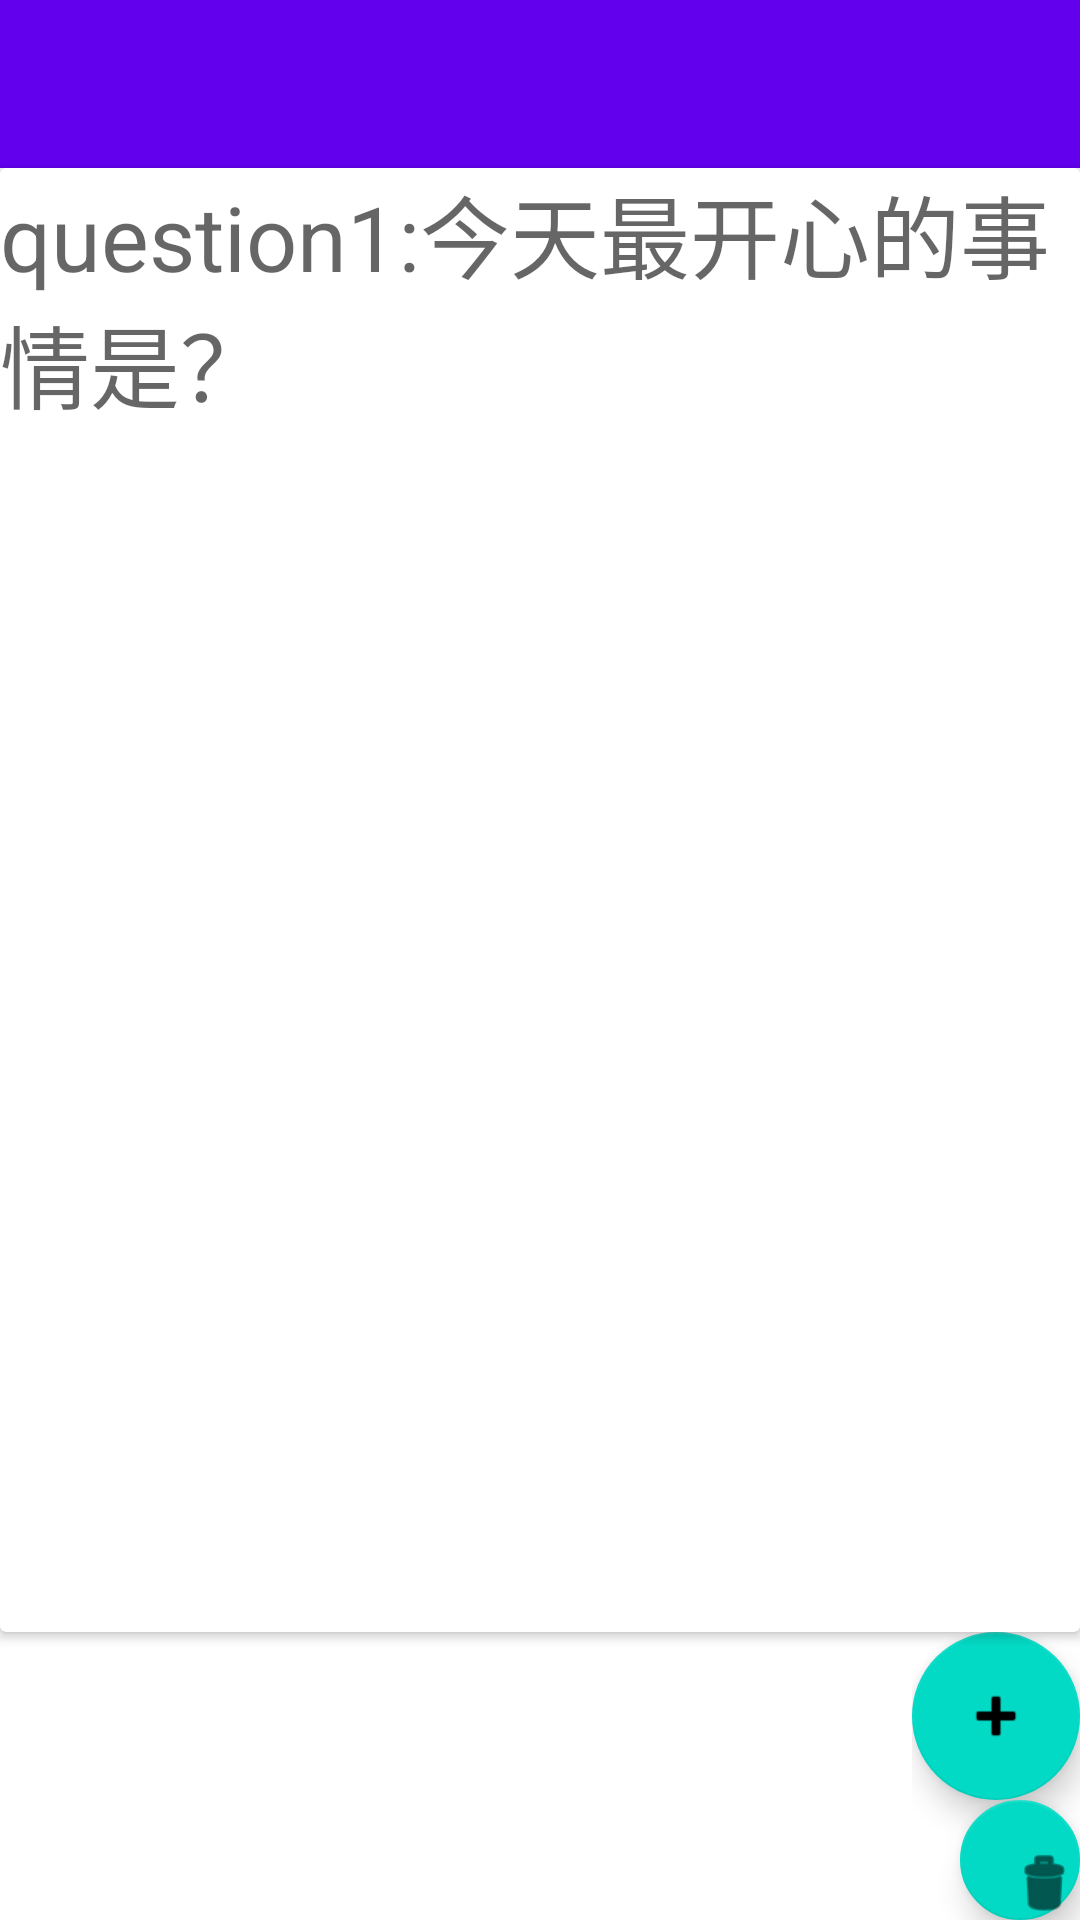

Icons on this 1080px x 1920px Android screen, each with the point to tap as [x,y]:
add: [996,1716]
delete: [1020,1860]
